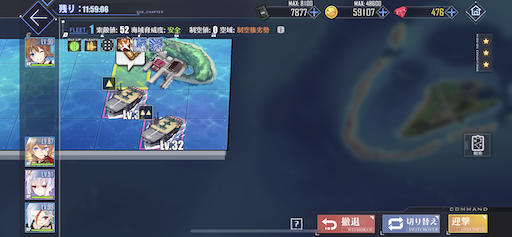lv1: (96, 71, 143, 126)
lv2: (138, 103, 191, 153)
